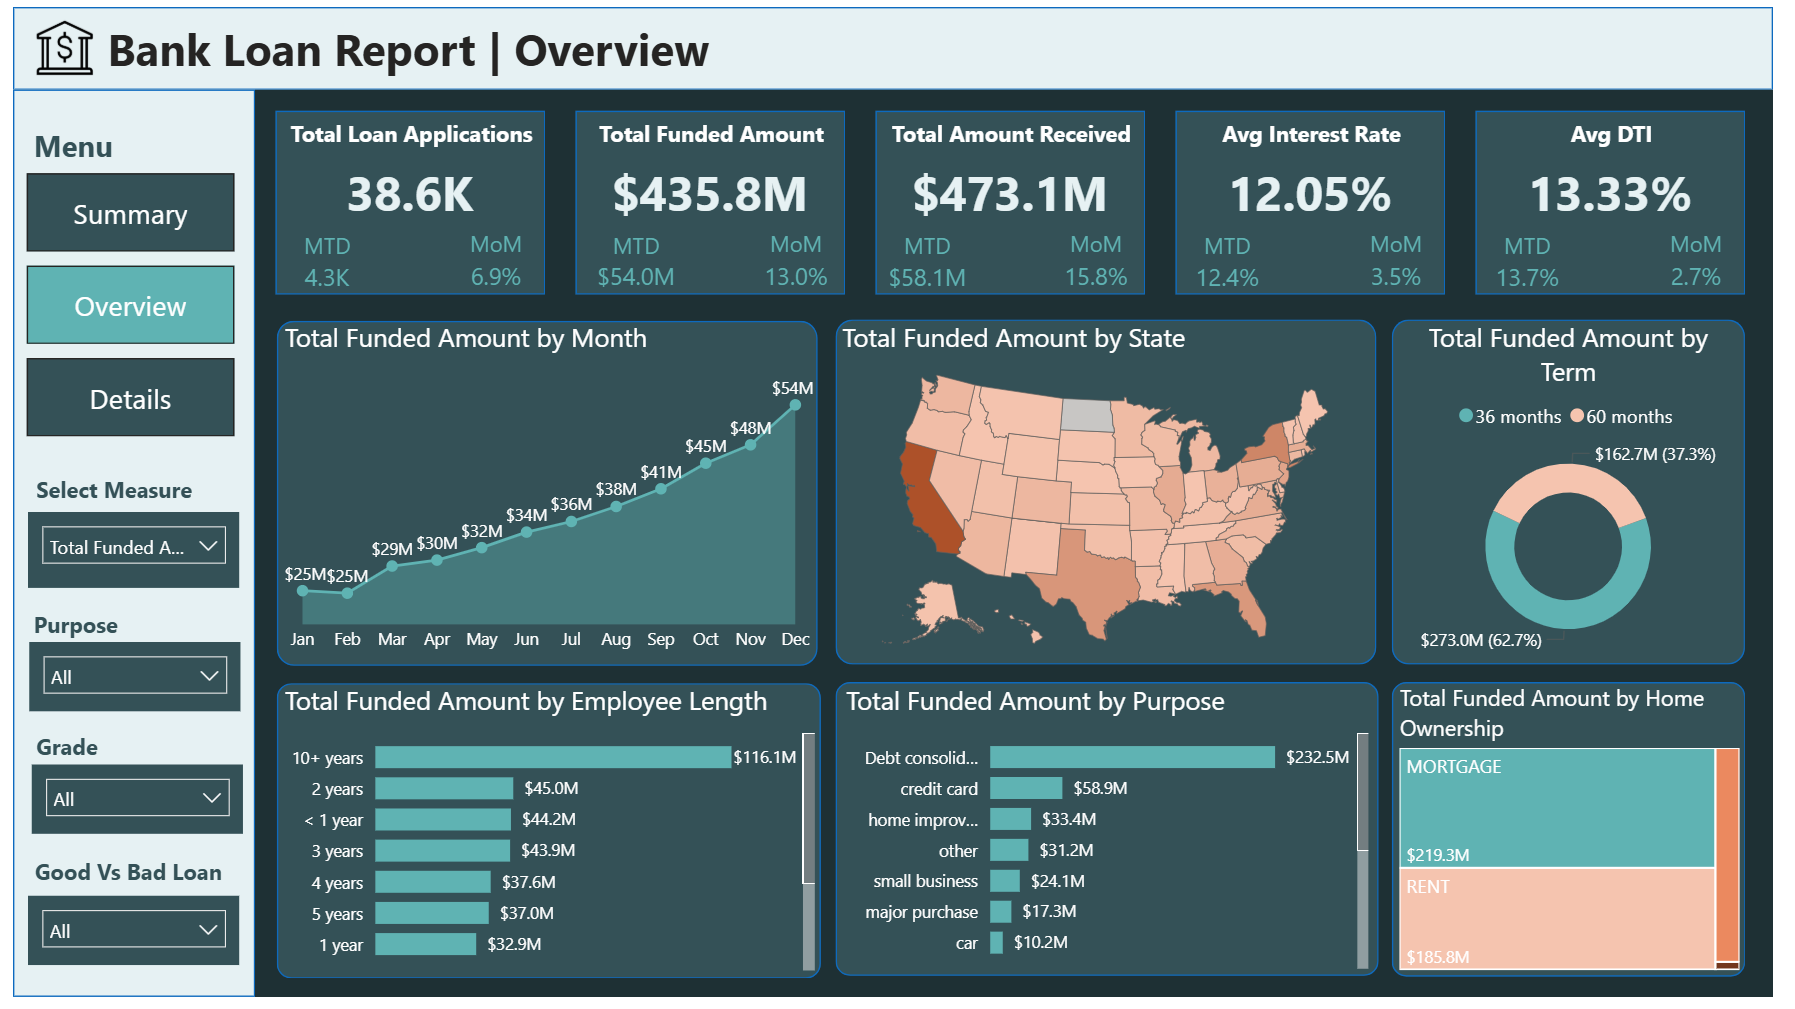

This screenshot's page, from the dashboard's own definition file:
{"tool":"powerbi","page":{"name":"Overview","canvas":[1280,720],"ordinal":1},"visuals":[{"type":"shape","box":[0,60.3,176.1,659.9],"z":0},{"type":"shape","box":[0,0,1280,60.3],"z":1000,"group":"g10"},{"type":"shape","box":[191.8,228,393.3,250.9],"z":1000},{"type":"textbox","box":[63.9,3.6,469.3,53.1],"z":2000,"group":"g10"},{"type":"group","id":"g1","title":"Group 1","box":[190.8,75.6,197,134.2],"z":2000},{"type":"image","box":[9.7,4.8,55.5,50.7],"z":3000,"group":"g10"},{"type":"shape","box":[191,75.6,196.2,133.8],"z":3000,"group":"g1"},{"type":"shape","box":[408.9,75.8,196.2,133.8],"z":3000,"group":"g11"},{"type":"shape","box":[627.4,75.8,196.2,133.8],"z":3000,"group":"g2"},{"type":"shape","box":[845.8,75.8,196.2,133.8],"z":3000,"group":"g3"},{"type":"shape","box":[1064.3,75.8,196.2,133.8],"z":3000,"group":"g4"},{"type":"group","id":"g2","title":"Group 1","box":[627.2,75.8,197,134.2],"z":4000},{"type":"group","id":"g3","title":"Group 1","box":[845.6,75.8,197,134.2],"z":5000},{"type":"card","title":"Total Loan Applications","fields":{"Values":["bank_loan_data.Total Loan Applications"]},"box":[190.8,112,195.5,47.3],"z":5000,"group":"g1"},{"type":"card","title":"Total Loan Applications","fields":{"Values":["bank_loan_data.Total Funded Amount"]},"box":[408.7,112.2,195.5,47.3],"z":5000,"group":"g11"},{"type":"card","title":"Total Loan Applications","fields":{"Values":["bank_loan_data.Total Amount Received"]},"box":[627.2,112.2,195.5,47.3],"z":5000,"group":"g2"},{"type":"card","title":"Total Loan Applications","fields":{"Values":["bank_loan_data.Avg INterest Rate"]},"box":[845.6,112.2,195.5,47.3],"z":5000,"group":"g3"},{"type":"card","title":"Total Loan Applications","fields":{"Values":["bank_loan_data.Avg DTI"]},"box":[1064.1,112.2,195.5,47.3],"z":5000,"group":"g4"},{"type":"group","id":"g4","title":"Group 1","box":[1064.1,75.8,197,134.2],"z":6000},{"type":"textbox","box":[191.7,75.9,196.2,34.6],"z":6000,"group":"g1"},{"type":"textbox","box":[409.6,76.1,196.2,34.6],"z":6000,"group":"g11"},{"type":"textbox","box":[628.1,76.1,196.2,34.6],"z":6000,"group":"g2"},{"type":"textbox","box":[846.5,76.1,196.2,34.6],"z":6000,"group":"g3"},{"type":"textbox","box":[1065,76.1,196.2,34.6],"z":6000,"group":"g4"},{"type":"card","title":"MTD","fields":{"Values":["bank_loan_data.MTD Loan Applications"]},"box":[192,161.6,73.6,48.2],"z":7000,"group":"g1"},{"type":"card","title":"MTD","fields":{"Values":["bank_loan_data.MTD Total Amount Recived"]},"box":[628.4,161.8,73.6,48.2],"z":7000,"group":"g2"},{"type":"card","title":"MTD","fields":{"Values":["bank_loan_data.MTD Avg Interest Rate"]},"box":[846.8,161.8,73.6,48.2],"z":7000,"group":"g3"},{"type":"card","title":"MTD","fields":{"Values":["bank_loan_data.MTD Avg DTI"]},"box":[1065.3,161.8,73.6,48.2],"z":7000,"group":"g4"},{"type":"card","title":"MTD","fields":{"Values":["bank_loan_data.MTD Funded Amount"]},"box":[416.2,162.5,73.8,47.5],"z":7000,"group":"g11"},{"type":"textbox","box":[12,334.7,153.6,32.5],"z":7000,"group":"g9"},{"type":"textbox","box":[10,432.4,153.8,32.5],"z":7000,"group":"g7"},{"type":"textbox","box":[11.6,522.2,153.8,32.5],"z":7000,"group":"g8"},{"type":"textbox","box":[11.2,612.5,153.8,32.5],"z":7000,"group":"g5"},{"type":"group","id":"g5","title":"Group 4","box":[11.2,612.5,153.8,83.8],"z":8000},{"type":"card","title":"MoM","fields":{"Values":["bank_loan_data.MoM Loan Applications"]},"box":[315.6,160.7,71.8,48.2],"z":8001,"group":"g1"},{"type":"card","title":"MoM","fields":{"Values":["bank_loan_data.MoM Total Funded Amount"]},"box":[533.5,160.9,71.8,48.2],"z":8001,"group":"g11"},{"type":"card","title":"MoM","fields":{"Values":["bank_loan_data.MoM Total Amount Received"]},"box":[752,160.9,71.8,48.2],"z":8001,"group":"g2"},{"type":"card","title":"MoM","fields":{"Values":["bank_loan_data.MoM Avg Interest Rate"]},"box":[970.4,160.9,71.8,48.2],"z":8001,"group":"g3"},{"type":"card","title":"MoM","fields":{"Values":["bank_loan_data.MoM Avg DTI"]},"box":[1188.9,160.9,71.8,48.2],"z":8001,"group":"g4"},{"type":"group","id":"g6","title":"Group 4","box":[11.6,522.2,155,80],"z":9000},{"type":"group","id":"g7","title":"Group 2","box":[10,432.4,155.3,79.5],"z":10000},{"type":"shape","box":[598.1,227.1,393.3,250.9],"z":11000},{"type":"stackedAreaChart","fields":{"Y":["bank_loan_data.Total Funded Amount"],"Category":["Date Table.Month"]},"box":[192.4,227.1,394.5,250.9],"z":12000},{"type":"shapeMap","fields":{"Value":["bank_loan_data.Total Funded Amount"],"Category":["bank_loan_data.address_state"]},"box":[597.9,227.1,392.3,251.6],"z":13000},{"type":"slicer","fields":{"Values":["Select Measure.Select Measure"]},"box":[10.8,367.2,153.6,54.9],"z":13000,"group":"g9"},{"type":"shape","box":[1002.6,227.1,257,250.9],"z":14000},{"type":"donutChart","fields":{"Y":["bank_loan_data.Total Funded Amount"],"Category":["bank_loan_data.term"]},"box":[1003.1,227.1,257,250.9],"z":15000},{"type":"slicer","fields":{"Values":["bank_loan_data.purpose"]},"box":[11.6,461.9,153.8,50],"z":16000,"group":"g7"},{"type":"shape","box":[191.8,492.2,395.7,214.7],"z":16000},{"type":"slicer","fields":{"Values":["bank_loan_data.grade"]},"box":[13.2,551.7,153.8,50],"z":16000,"group":"g8"},{"type":"slicer","fields":{"Values":["bank_loan_data.Good Vs Bad Loan"]},"box":[11.2,646.3,153.8,50],"z":16000,"group":"g5"},{"type":"group","id":"g8","title":"Group 5","box":[11.6,522.2,155,80],"z":16001,"group":"g6"},{"type":"shape","box":[1002.9,490.8,257.1,214.3],"z":17000},{"type":"barChart","fields":{"Y":["bank_loan_data.Total Funded Amount"],"Category":["bank_loan_data.emp_length"]},"box":[193,490.8,395,215],"z":18000},{"type":"shape","box":[597.9,490.8,395,213.8],"z":19000},{"type":"barChart","fields":{"Y":["bank_loan_data.Total Funded Amount"],"Category":["bank_loan_data.purpose"]},"box":[600.7,490.8,390,213.8],"z":20000},{"type":"treemap","fields":{"Values":["bank_loan_data.Total Funded Amount"],"Group":["bank_loan_data.home_ownership"]},"box":[1003.4,490.8,257.1,214.3],"z":21000},{"type":"group","id":"g9","title":"Group 3","box":[10.8,334.7,154.8,87.4],"z":22000},{"type":"pageNavigator","title":"Menu","box":[10,121.1,151.1,191.1],"z":23000},{"type":"group","id":"g10","title":"Group 6","box":[0,0,1280,60.3],"z":24000},{"type":"textbox","box":[10,80.8,150.8,40],"z":24001},{"type":"group","id":"g11","title":"Group 7","box":[408.7,75.8,197,134.2],"z":24002}]}

Visuals, with their boxes in screenshot pixels (x1, y1, x2, y2), scaled from the page's 1280x720 canvas onto the 1795x1009 screenshot:
shape: detection(0, 85, 247, 1008)
shape: detection(0, 0, 1794, 85)
shape: detection(269, 320, 821, 671)
textbox: detection(90, 5, 748, 79)
"Group 1" group: detection(268, 106, 544, 294)
image: detection(14, 7, 91, 78)
shape: detection(268, 106, 543, 293)
shape: detection(573, 106, 849, 294)
shape: detection(880, 106, 1155, 294)
shape: detection(1186, 106, 1461, 294)
shape: detection(1493, 106, 1768, 294)
"Group 1" group: detection(880, 106, 1156, 294)
"Group 1" group: detection(1186, 106, 1462, 294)
"Total Loan Applications" card: detection(268, 157, 542, 223)
"Total Loan Applications" card: detection(573, 157, 847, 224)
"Total Loan Applications" card: detection(880, 157, 1154, 224)
"Total Loan Applications" card: detection(1186, 157, 1460, 224)
"Total Loan Applications" card: detection(1492, 157, 1766, 224)
"Group 1" group: detection(1492, 106, 1768, 294)
textbox: detection(269, 106, 544, 155)
textbox: detection(574, 107, 850, 155)
textbox: detection(881, 107, 1156, 155)
textbox: detection(1187, 107, 1462, 155)
textbox: detection(1493, 107, 1769, 155)
"MTD" card: detection(269, 226, 372, 294)
"MTD" card: detection(881, 227, 984, 294)
"MTD" card: detection(1188, 227, 1291, 294)
"MTD" card: detection(1494, 227, 1597, 294)
"MTD" card: detection(584, 228, 687, 294)
textbox: detection(17, 469, 232, 515)
textbox: detection(14, 606, 230, 652)
textbox: detection(16, 732, 232, 777)
textbox: detection(16, 858, 231, 904)
"Group 4" group: detection(16, 858, 231, 976)
"MoM" card: detection(443, 225, 543, 293)
"MoM" card: detection(748, 225, 849, 293)
"MoM" card: detection(1055, 225, 1155, 293)
"MoM" card: detection(1361, 225, 1462, 293)
"MoM" card: detection(1667, 225, 1768, 293)
"Group 4" group: detection(16, 732, 234, 844)
"Group 2" group: detection(14, 606, 232, 717)
shape: detection(839, 318, 1390, 670)
stackedAreaChart - bank_loan_data.Total Funded Amount x Date Table.Month: detection(270, 318, 823, 670)
shapeMap - bank_loan_data.Total Funded Amount x bank_loan_data.address_state: detection(838, 318, 1389, 671)
slicer - Select Measure.Select Measure: detection(15, 515, 231, 592)
shape: detection(1406, 318, 1766, 670)
donutChart - bank_loan_data.Total Funded Amount x bank_loan_data.term: detection(1407, 318, 1767, 670)
slicer - bank_loan_data.purpose: detection(16, 647, 232, 717)
shape: detection(269, 690, 824, 991)
slicer - bank_loan_data.grade: detection(19, 773, 234, 843)
slicer - bank_loan_data.Good Vs Bad Loan: detection(16, 906, 231, 976)
"Group 5" group: detection(16, 732, 234, 844)
shape: detection(1406, 688, 1767, 988)
barChart - bank_loan_data.Total Funded Amount x bank_loan_data.emp_length: detection(271, 688, 825, 989)
shape: detection(838, 688, 1392, 987)
barChart - bank_loan_data.Total Funded Amount x bank_loan_data.purpose: detection(842, 688, 1389, 987)
treemap - bank_loan_data.Total Funded Amount x bank_loan_data.home_ownership: detection(1407, 688, 1768, 988)
"Group 3" group: detection(15, 469, 232, 592)
"Menu" pageNavigator: detection(14, 170, 226, 438)
"Group 6" group: detection(0, 0, 1794, 85)
textbox: detection(14, 113, 225, 169)
"Group 7" group: detection(573, 106, 849, 294)
